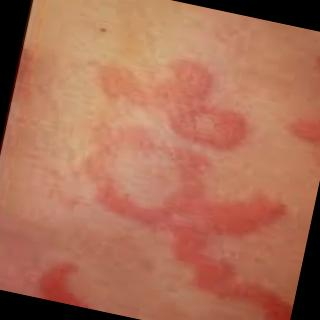urticaria: (79, 21, 275, 307)
